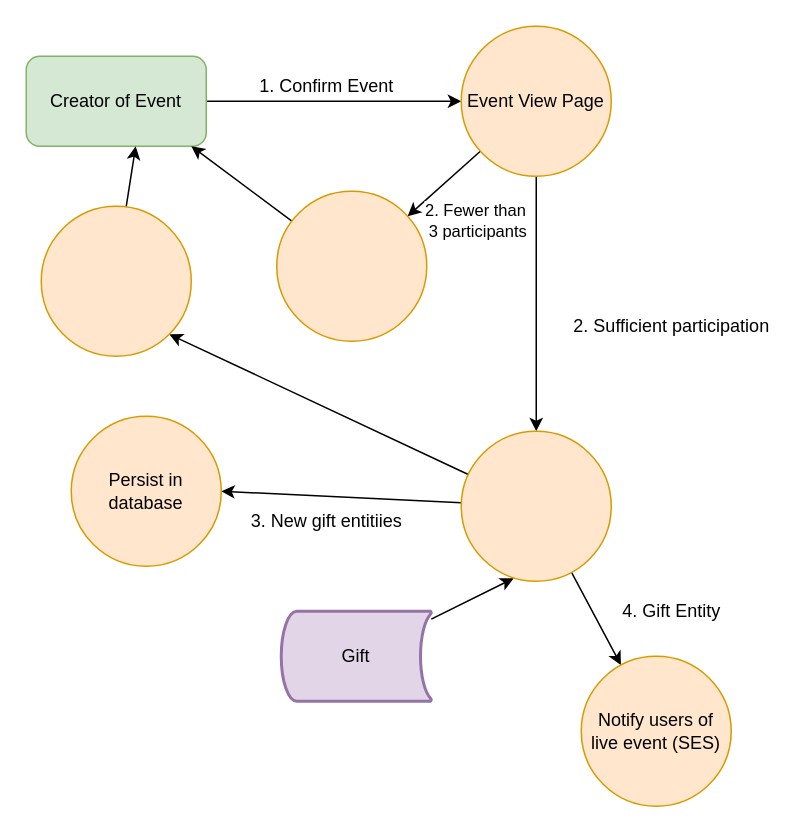
Image size: 810x833. Some labels were removed from this diagram. Here are the shapes that lost their labels. From the top down, the box of each, then its label:
(40, 205, 191, 356): Render redirect with success message
(275, 190, 427, 341): Render redirect with error message
(460, 430, 611, 581): Generate gift objects, assign givers and receivers
